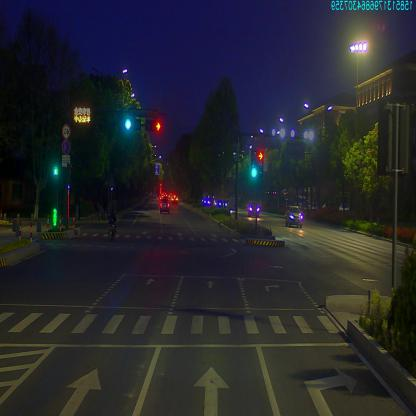traffic-light: (126, 118, 142, 131), (148, 120, 162, 130)
